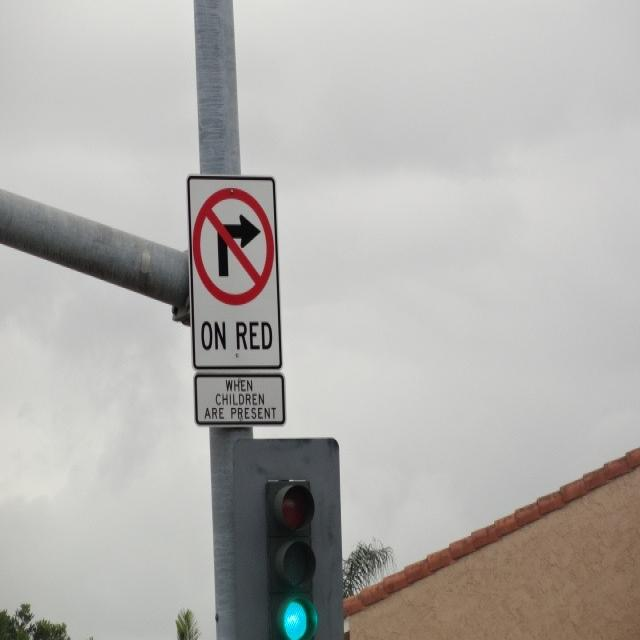pole: (183, 0, 261, 633)
